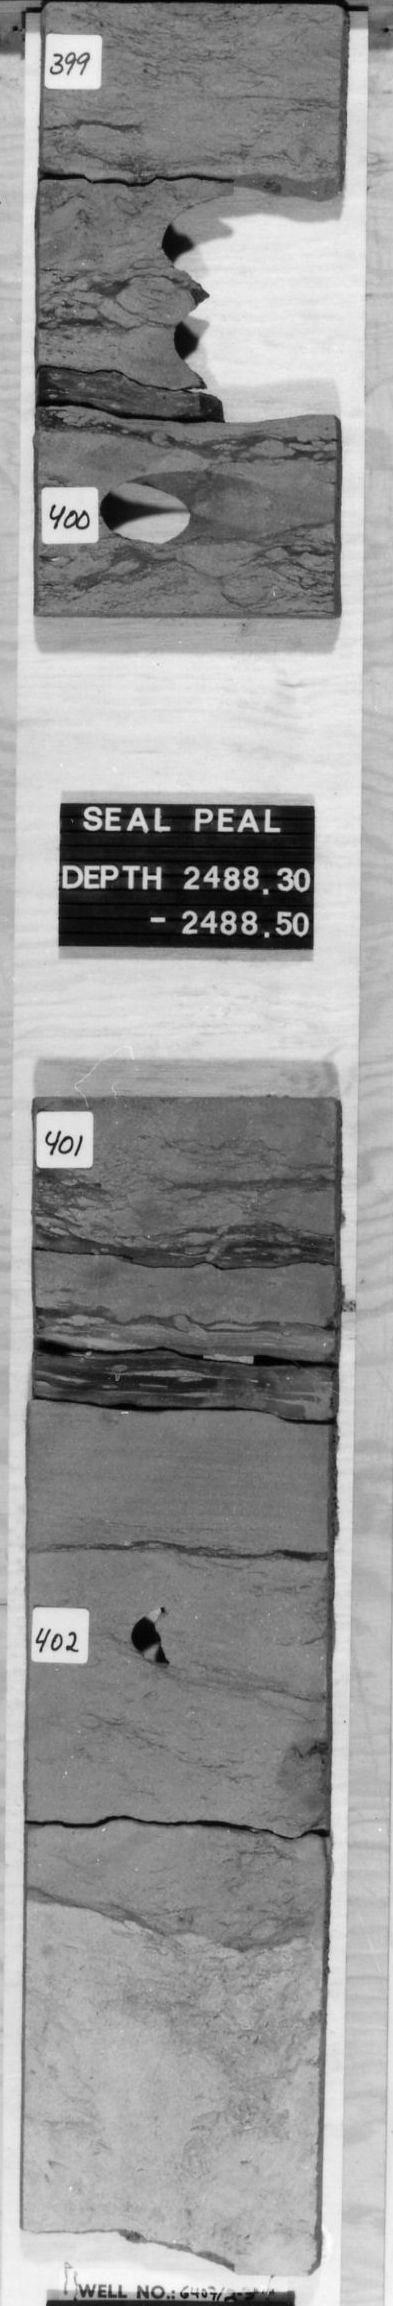hplug: (91, 468, 277, 551), (112, 1596, 188, 1677)
scal: (150, 178, 238, 296), (166, 296, 228, 390)
